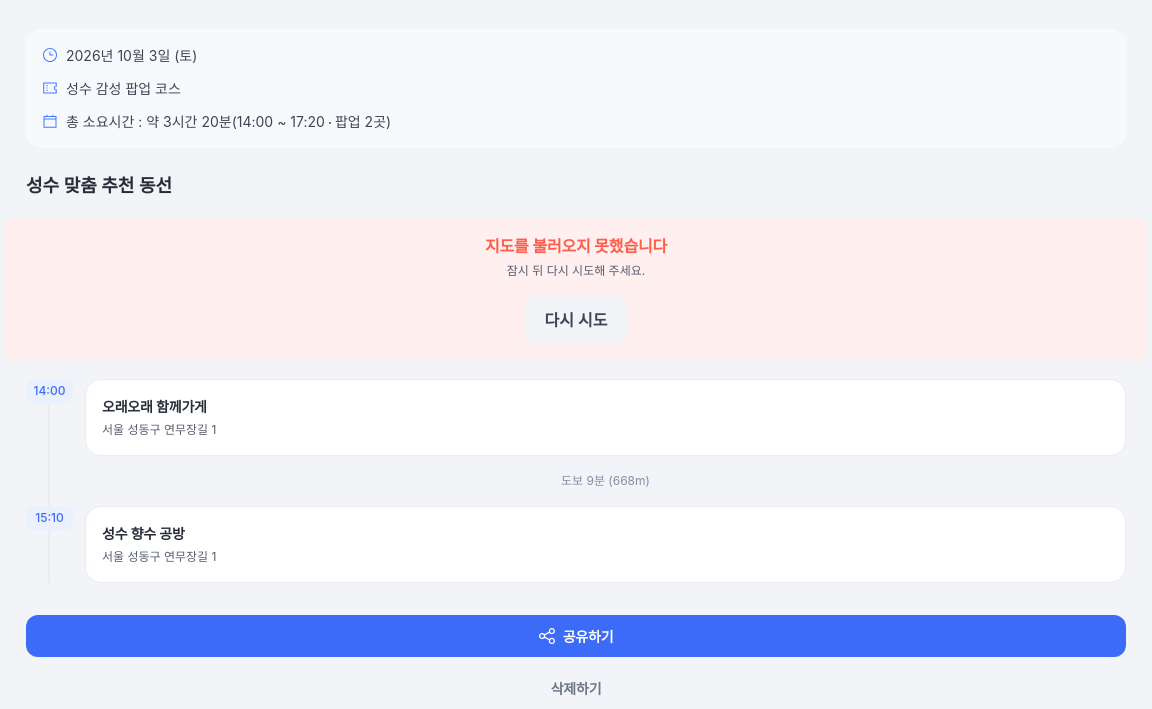
Test: 일정 삭제가 실패하면 삭제하지 못했다고 알리고 그 화면에 남는다
The width and height of the screenshot is (1152, 709).
(page scrolled)
Click the button "삭제하기".
click(576, 688)  # box x1=26 y1=667 x2=1126 y2=708
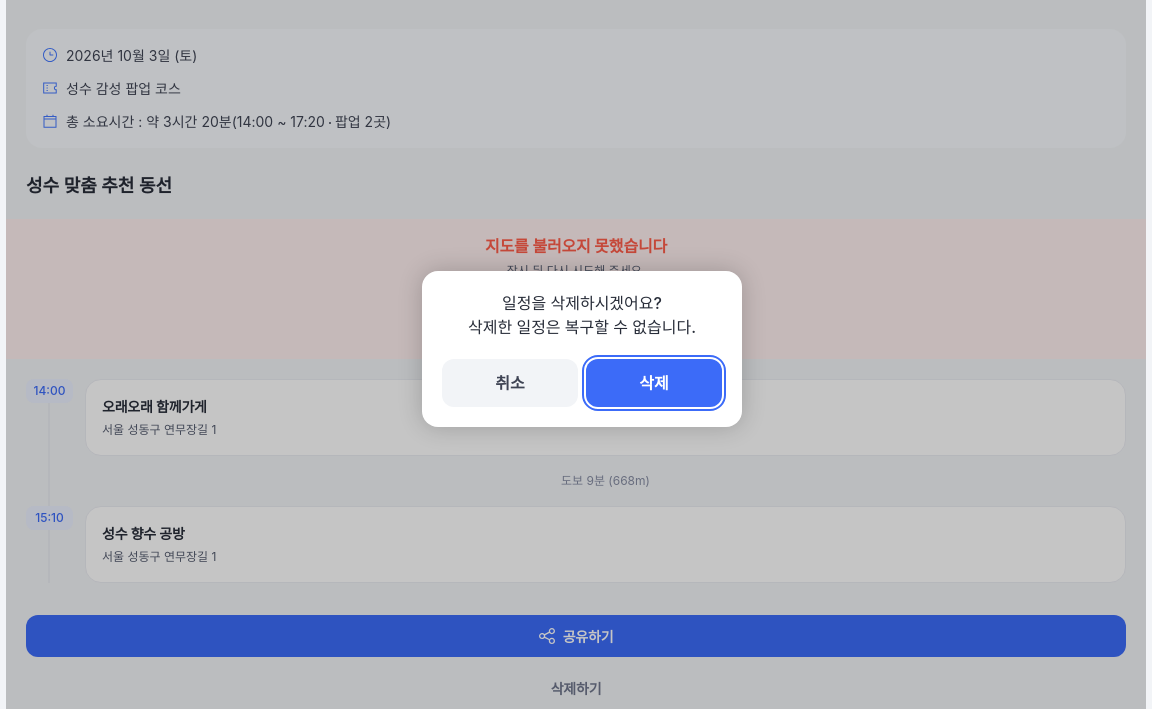
Click the button "삭제".
click(654, 383)  # box x1=586 y1=359 x2=722 y2=407
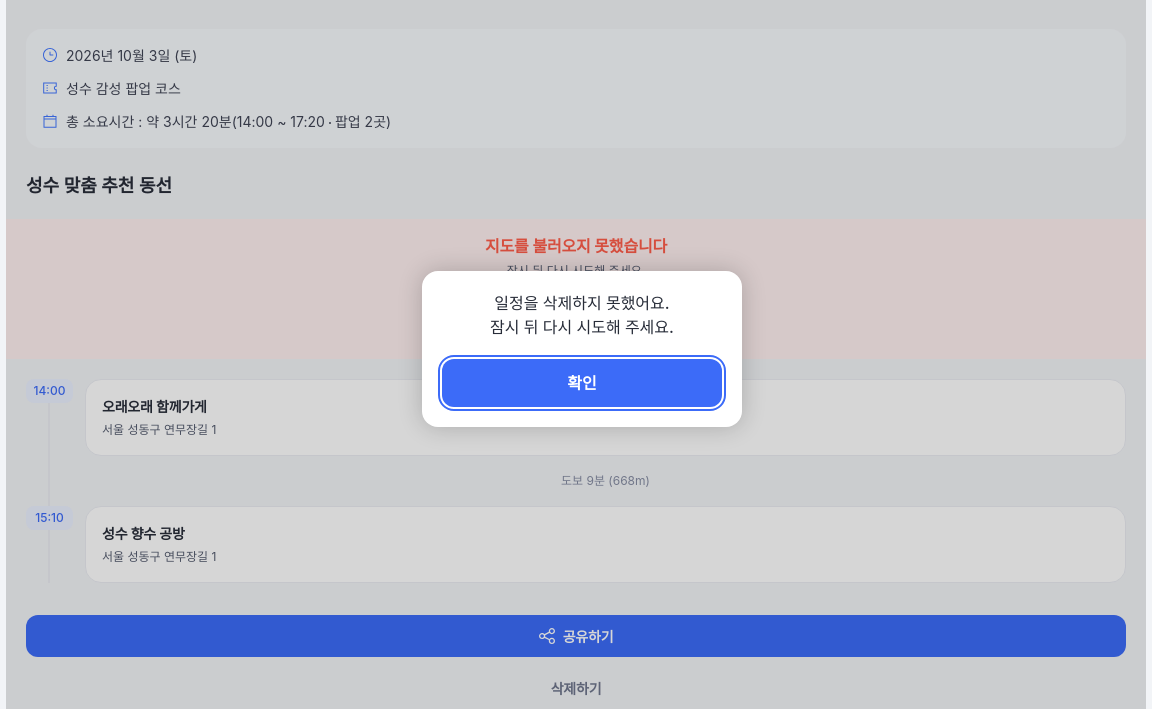
Now the dialog "일정을 삭제하지 못했어요. 잠시 뒤 다시 시도해 주세요. 확인" is shown, box x1=422 y1=271 x2=742 y2=427
